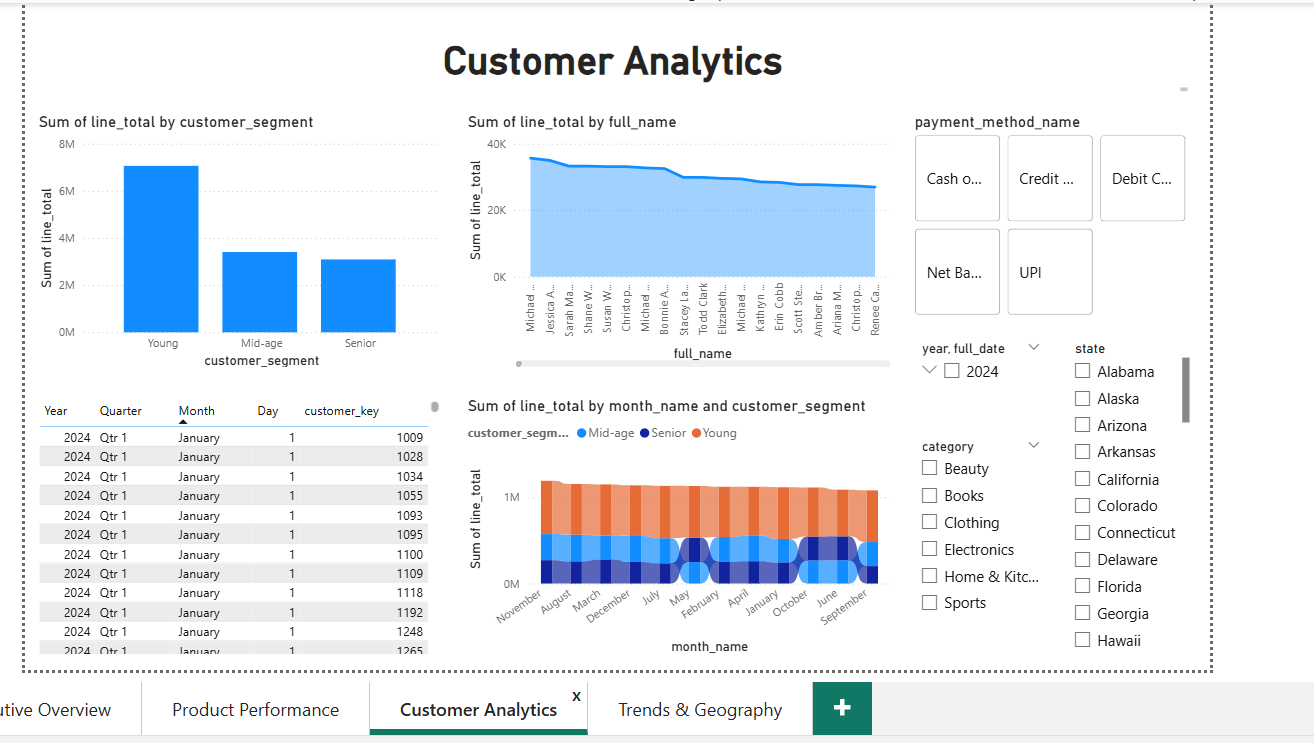

The page's visual inventory and layout, read from the dashboard file:
{"tool":"powerbi","page":{"name":"Customer Analytics","canvas":[1280,720],"ordinal":2},"visuals":[{"type":"textbox","title":"Customer Analytics","box":[9.7,17.8,1250,82.6],"z":0},{"type":"clusteredColumnChart","fields":{"Category":["warehouse dim_customers.customer_segment"],"Y":["warehouse fact_sales.line_total"]},"box":[9.5,117.7,442.2,279.9],"z":1000},{"type":"tableEx","fields":{"Values":["warehouse dim_date.full_date.Variation.Date Hierarchy.Year","warehouse dim_date.full_date.Variation.Date Hierarchy.Quarter","warehouse dim_date.full_date.Variation.Date Hierarchy.Month","warehouse dim_date.full_date.Variation.Date Hierarchy.Day","warehouse dim_customers.customer_key"]},"box":[9.5,424.7,442.2,283.1],"z":2000},{"type":"stackedAreaChart","fields":{"Category":["warehouse dim_customers.full_name"],"Y":["warehouse fact_sales.line_total"]},"box":[472.4,117.7,466,279.9],"z":3000},{"type":"ribbonChart","fields":{"Category":["warehouse dim_date.month_name"],"Series":["warehouse dim_customers.customer_segment"],"Y":["warehouse fact_sales.line_total"]},"box":[472.4,424.7,466,283.1],"z":4000},{"type":"advancedSlicerVisual","fields":{"Values":["warehouse dim_payment_method.payment_method_name"]},"box":[956,117.7,303.8,224.3],"z":5000},{"type":"slicer","fields":{"Values":["warehouse dim_date.year","warehouse dim_date.full_date"]},"box":[956,359.5,152.7,81.1],"z":6000},{"type":"slicer","fields":{"Values":["warehouse dim_customers.state"]},"box":[1119.8,359.5,141.6,348.3],"z":7000},{"type":"slicer","fields":{"Values":["warehouse dim_products.category"]},"box":[956,464.5,152.7,243.4],"z":8000}]}

Visuals, with their boxes on the page's 1280x720 design canvas (x1, y1, x2, y2). These are canvas units, not pixel positions in the 1314x743 screenshot, which may show the page scaled, cropped or inside an application window:
"Customer Analytics" textbox: (left=10, top=18, right=1260, bottom=100)
clusteredColumnChart - warehouse dim_customers.customer_segment x warehouse fact_sales.line_total: (left=10, top=118, right=452, bottom=398)
tableEx - warehouse dim_date.full_date.Variation.Date Hierarchy.Year x warehouse dim_date.full_date.Variation.Date Hierarchy.Quarter: (left=10, top=425, right=452, bottom=708)
stackedAreaChart - warehouse dim_customers.full_name x warehouse fact_sales.line_total: (left=472, top=118, right=938, bottom=398)
ribbonChart - warehouse dim_date.month_name x warehouse dim_customers.customer_segment: (left=472, top=425, right=938, bottom=708)
advancedSlicerVisual - warehouse dim_payment_method.payment_method_name: (left=956, top=118, right=1260, bottom=342)
slicer - warehouse dim_date.year x warehouse dim_date.full_date: (left=956, top=360, right=1109, bottom=441)
slicer - warehouse dim_customers.state: (left=1120, top=360, right=1261, bottom=708)
slicer - warehouse dim_products.category: (left=956, top=464, right=1109, bottom=708)
